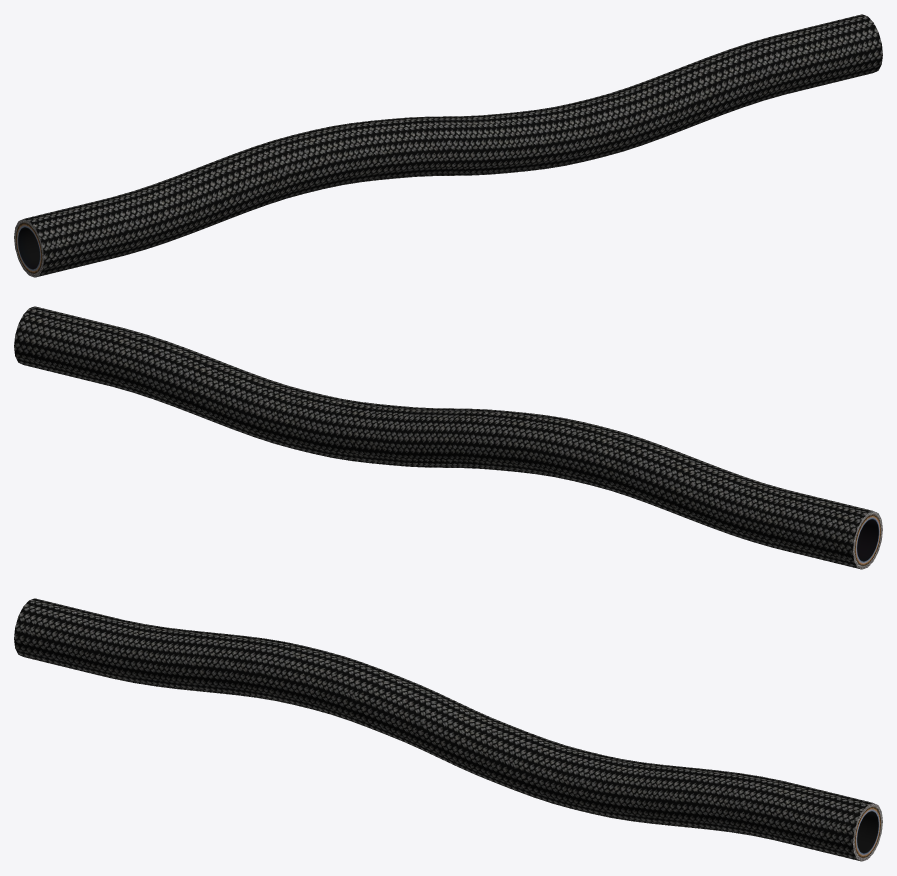
3 views of the same model, one above another, from view 1: azimuth 30°, elevation 25°; view 2: azimuth 150°, elevation 25°; view 3: azimuth 330°, elevation 25° (orthographic).
Parts seen in each view (by area): view 1: Polyester_Braid-10; view 2: Polyester_Braid-10; view 3: Polyester_Braid-10.
Boxes of the visible parts, box(x1,y1,x2,y2) form: Polyester_Braid-10: box(14, 14, 882, 277); Polyester_Braid-10: box(14, 306, 882, 569); Polyester_Braid-10: box(14, 598, 882, 861).
Size of the model in its own units: 0.3074 by 0.0318 by 0.0191.
Materials: 2 (2 with a texture image).
